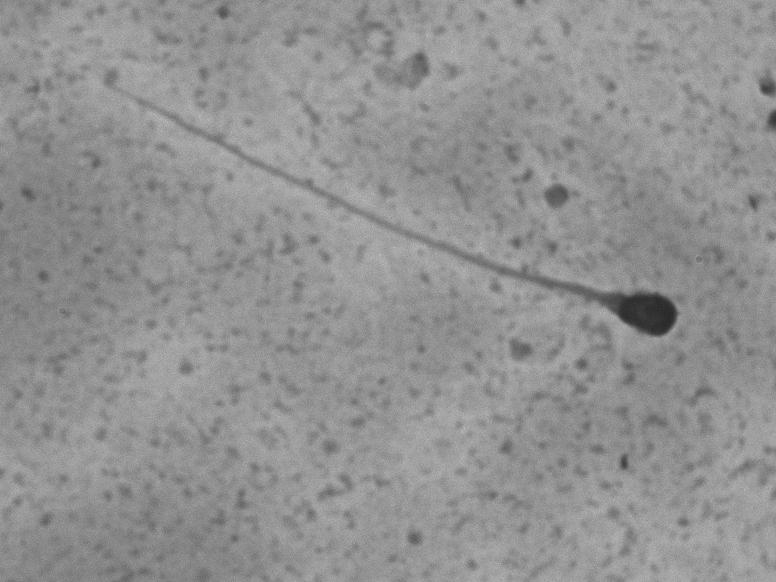Abnormal: (80, 58, 700, 348)
